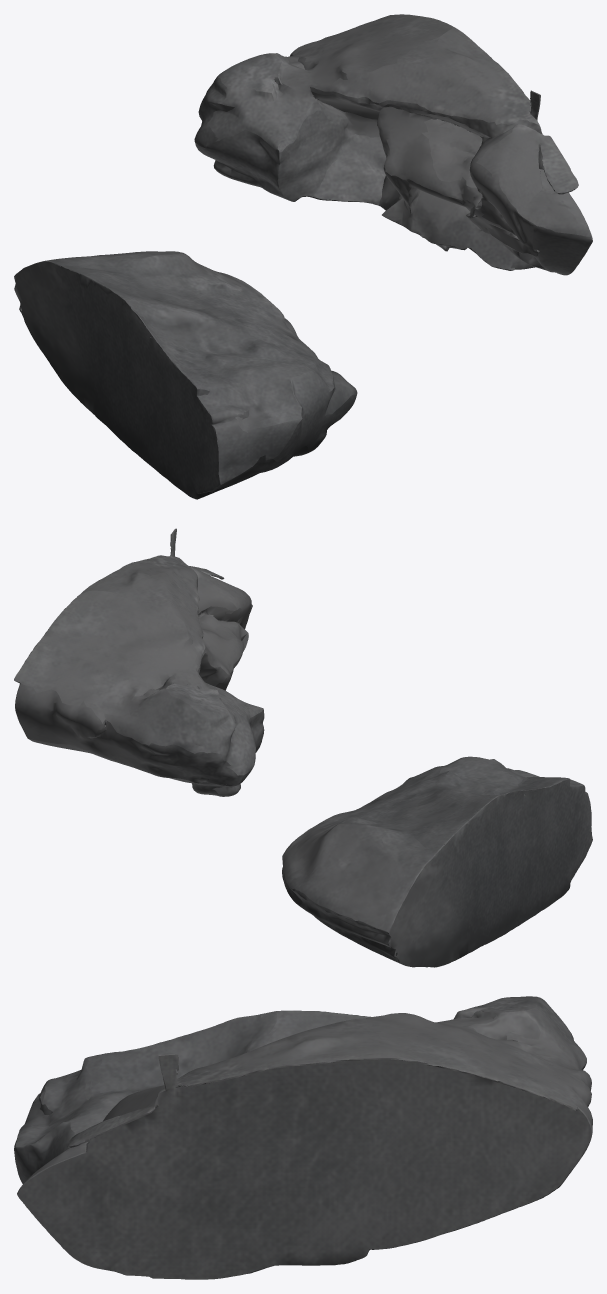
The picture shows the model from 3 angles, top to bottom: view 1: azimuth 30°, elevation 25°; view 2: azimuth 150°, elevation 25°; view 3: azimuth 270°, elevation 25°; orthographic projection. The views are drawn at different scales.
Parts seen in each view (by area): view 1: world; view 2: world; view 3: world.
Part boxes in pixels (bbox=[...]): world: bbox=[14, 14, 592, 499]; world: bbox=[14, 528, 592, 967]; world: bbox=[14, 996, 592, 1279].
Bounding box in the file's own units: 1.2 × 0.9042 × 1.2.
Materials: 1 (1 with a texture image).
